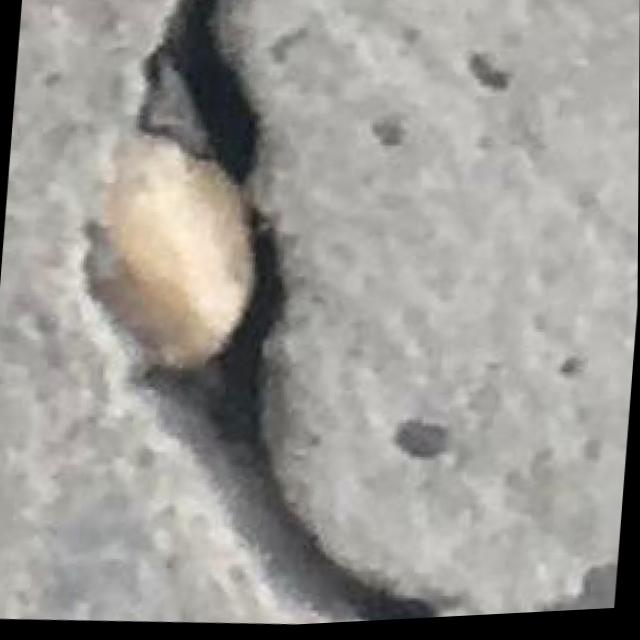Crack: (39, 0, 509, 638)
